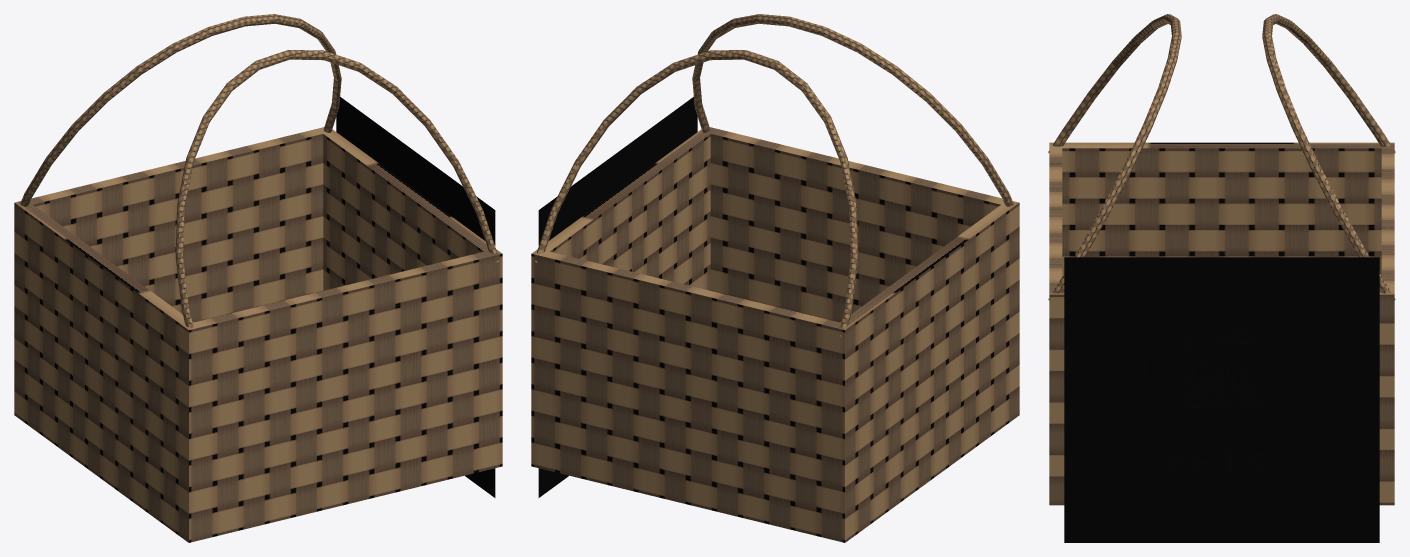
File: Basket.fbx
3 renders of one model, left to right at view 1: azimuth 30°, elevation 25°; view 2: azimuth 150°, elevation 25°; view 3: azimuth 270°, elevation 25°, orthographic.
Visible parts, largest first — view 1: Cube, PETS Logo Transparent, Torus.001, Torus.009; view 2: Cube, PETS Logo Transparent, Torus.009, Torus.001; view 3: PETS Logo Transparent, Cube, Torus.009, Torus.001.
Boxes of the visible parts, x1,y1,x2,y2 form: Cube: (14,127,502,542); PETS Logo Transparent: (336,97,495,497); Torus.001: (175,50,499,336); Torus.009: (20,14,341,206); Cube: (531,127,1019,542); PETS Logo Transparent: (538,97,697,497); Torus.009: (534,50,858,336); Torus.001: (692,14,1013,206); PETS Logo Transparent: (1064,257,1379,542); Cube: (1049,142,1394,505); Torus.009: (1262,14,1395,300); Torus.001: (1048,14,1181,300).
Bounding box in the file's own units: 5.41 × 7.29 × 5.23.
